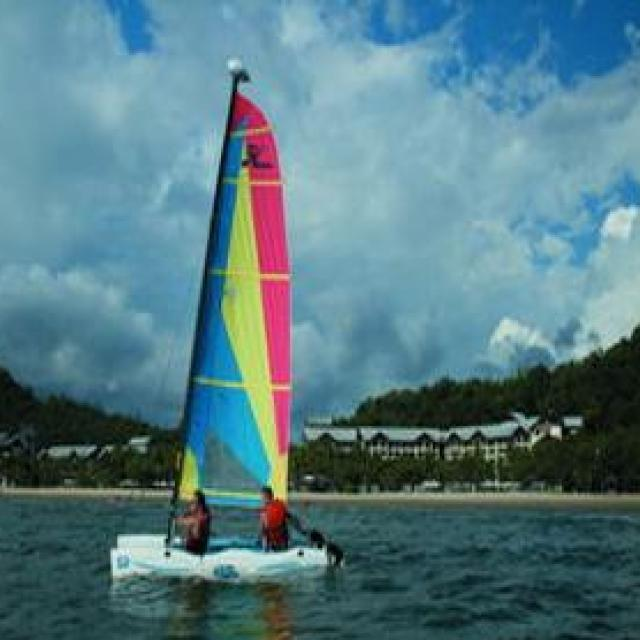sailboat: (102, 48, 333, 582)
